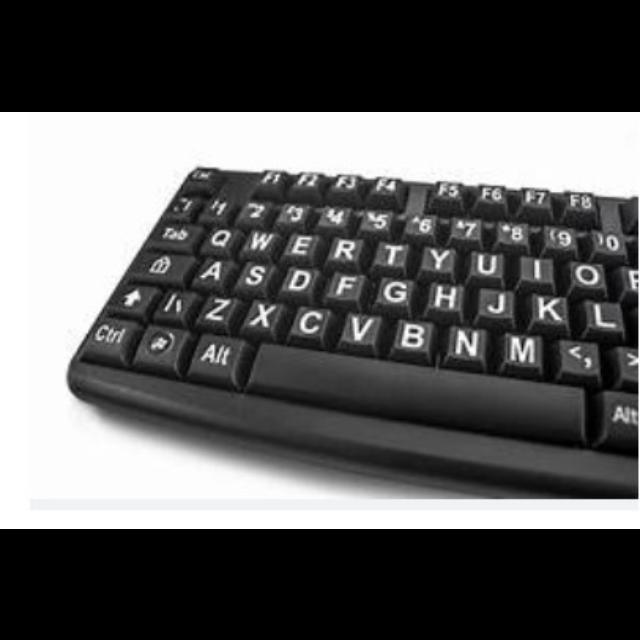Computer-Keyboard: (63, 166, 640, 497)
